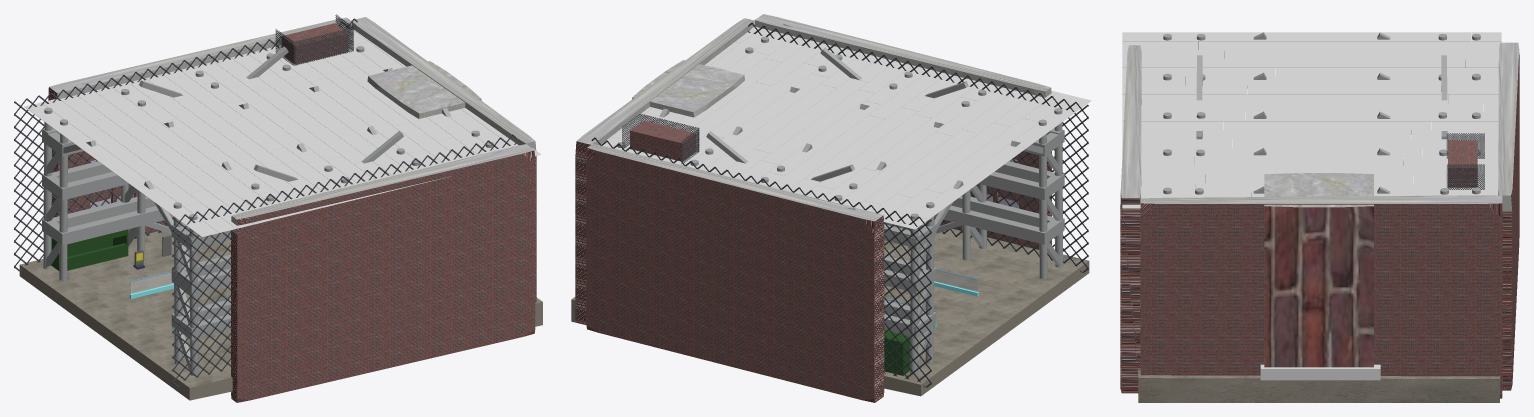
File: background.glb
3 views of the same model, side by side, from view 1: azimuth 30°, elevation 25°; view 2: azimuth 150°, elevation 25°; view 3: azimuth 270°, elevation 25° (orthographic). The views are drawn at different scales.
Parts seen in each view (by area): view 1: OldBuildingBack.002, roof, Body1.003, right_wing.063, GridR, OldBuildingBack.001, GridL, OldBuildingBack, OldBuildingCenter, ElevetorGrid, Elevator, subway (+3 smaller); view 2: OldBuildingBack.001, roof, Body1.003, right_wing.063, OldBuildingBack.002, OldBuildingBack, GridR, GridL, OldBuildingCenter, Elevator, right_wing.015, right_wing.042 (+8 smaller); view 3: roof, OldBuildingBack, OldBuildingCenter, Body1.003, OldBuildingBack.002, OldBuildingBack.001, OldBuildingBase, Elevator, ElevetorGrid, right_wing.063.
Part boxes in pixels (<box>): OldBuildingBack.002: <box>231,144,535,402</box>; roof: <box>24,28,540,237</box>; Body1.003: <box>19,231,542,400</box>; right_wing.063: <box>42,46,392,280</box>; GridR: <box>172,134,516,386</box>; OldBuildingBack.001: <box>48,17,351,234</box>; GridL: <box>14,18,357,271</box>; OldBuildingBack: <box>351,17,536,302</box>; OldBuildingCenter: <box>367,61,481,118</box>; ElevetorGrid: <box>275,14,353,65</box>; Elevator: <box>281,23,348,64</box>; subway: <box>51,229,128,270</box>; OldBuildingBack.001: <box>586,144,884,402</box>; roof: <box>601,18,1091,229</box>; Body1.003: <box>571,228,1089,396</box>; right_wing.063: <box>617,108,963,374</box>; OldBuildingBack.002: <box>754,14,1051,249</box>; OldBuildingBack: <box>575,18,754,324</box>; GridR: <box>748,22,1088,272</box>; GridL: <box>591,137,931,387</box>; OldBuildingCenter: <box>632,60,744,117</box>; Elevator: <box>630,120,696,161</box>; right_wing.015: <box>934,205,1049,244</box>; right_wing.042: <box>951,195,1063,233</box>; roof: <box>1122,32,1501,208</box>; OldBuildingBack: <box>1140,195,1502,398</box>; OldBuildingCenter: <box>1264,173,1373,367</box>; Body1.003: <box>1138,369,1499,402</box>; OldBuildingBack.002: <box>1120,45,1141,393</box>; OldBuildingBack.001: <box>1498,42,1519,390</box>; OldBuildingBase: <box>1260,364,1380,380</box>; Elevator: <box>1448,140,1477,187</box>; ElevetorGrid: <box>1446,133,1484,189</box>; right_wing.063: <box>1377,32,1480,194</box>.
Size of the model in its own units: 30.42 by 16.67 by 27.13.
27 materials, 6 textured.
